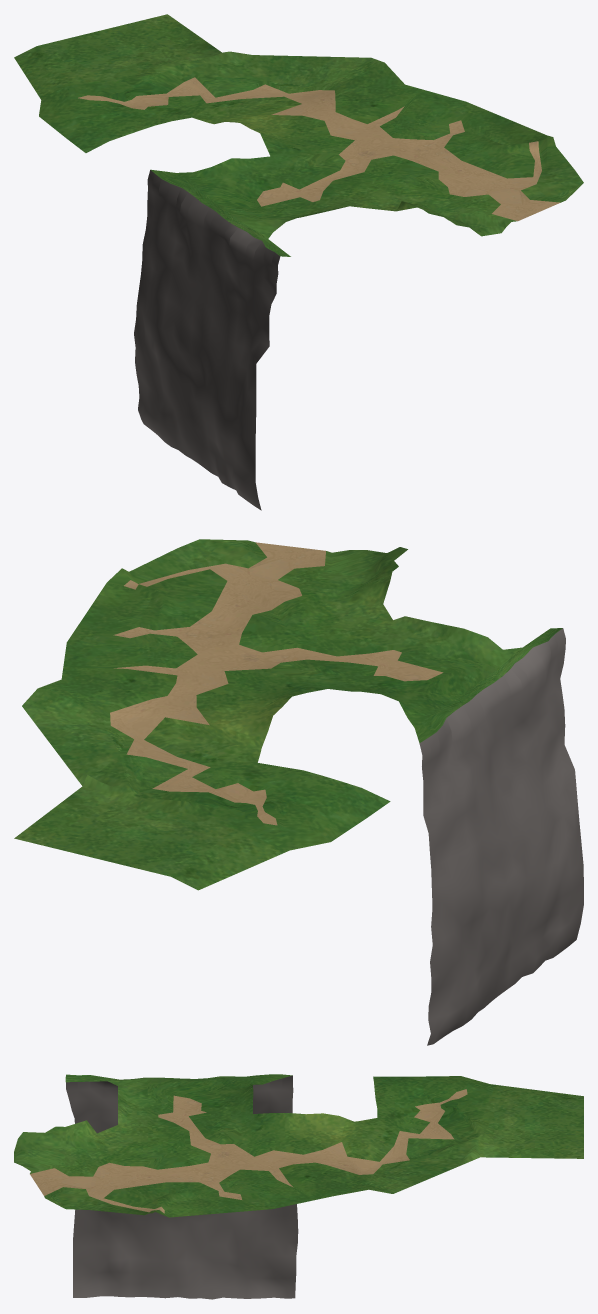
File: SM_ENV_KNFRST_MassiveRuin_COL.FBX
3 views of the same model, one above another, from view 1: azimuth 30°, elevation 25°; view 2: azimuth 150°, elevation 25°; view 3: azimuth 270°, elevation 25° (orthographic). The views are drawn at different scales.
Parts seen in each view (by area): view 1: SM_ENV_KNFRST_MassiveRuin_COL; view 2: SM_ENV_KNFRST_MassiveRuin_COL; view 3: SM_ENV_KNFRST_MassiveRuin_COL.
Part boxes in pixels (x1,y1,x2,y2): SM_ENV_KNFRST_MassiveRuin_COL: (14, 14, 583, 510); SM_ENV_KNFRST_MassiveRuin_COL: (14, 539, 583, 1045); SM_ENV_KNFRST_MassiveRuin_COL: (14, 1074, 583, 1299).
Bounding box in the file's own units: 3537 × 2603 × 5497.
